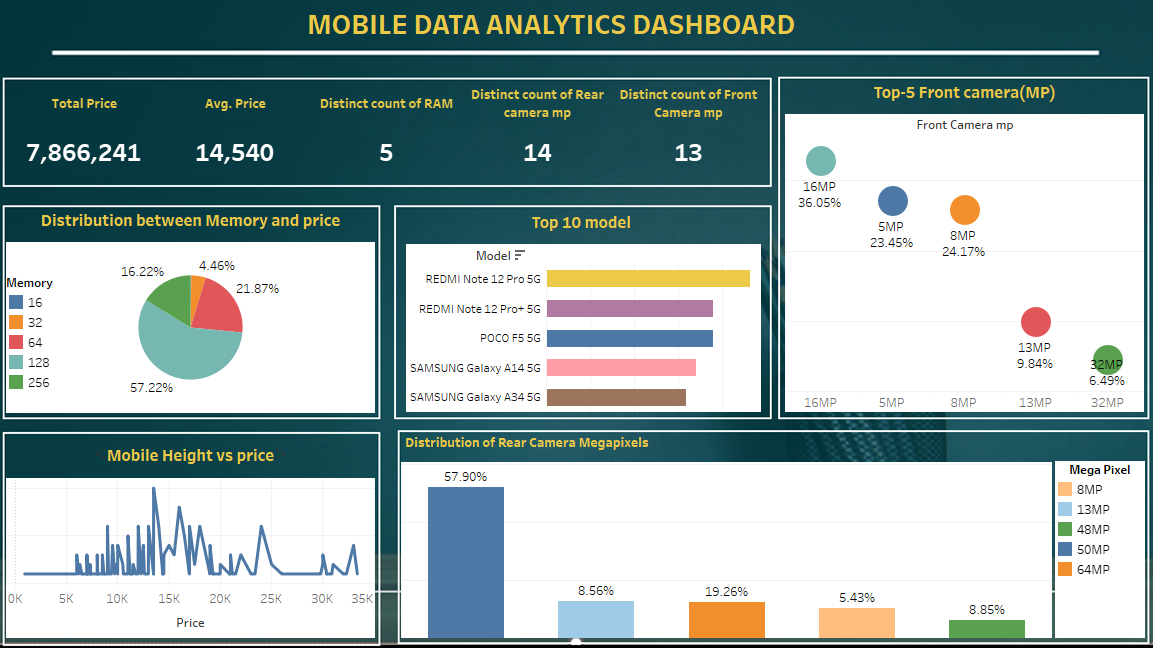

This screenshot's page, from the dashboard's own definition file:
{"tool":"tableau","page":{"name":"Mobile Data analysis","canvas":[1200,700],"ordinal":0},"visuals":[{"type":"image","param":"C:/Users/Lenovo/Desktop/Photo Album.png","box":[8,8,1184,684]},{"type":"worksheet","title":"Sheet 7","mark":"Automatic","box":[327,25,498,40]},{"type":"worksheet","title":"Top-5-Front Camera(Mp)","mark":"Circle","rows":["F1"],"cols":["Front_Camera_mp"],"box":[809,101,359,335]},{"type":"worksheet","title":"kpi","mark":"Text","box":[33,107,755,97]},{"type":"worksheet","title":"Distribution between Memory and price","mark":"Pie","box":[30,229,369,208]},{"type":"worksheet","title":"Top 10 model ","mark":"Automatic","rows":["Model"],"cols":["Price"],"box":[430,231,379,205]},{"type":"legend","title":"Distribution between Memory and price","param":"[federated.0ajy9ip0cz97ou1ashps90bmuvsi].[none:Memory:nk]","box":[30,298,64,141]},{"type":"worksheet","title":"Distribution of Rear Camera Megapixels","mark":"Automatic","rows":["F1"],"cols":["Rear_camera_mp"],"box":[425,453,651,209]},{"type":"worksheet","title":"Mobile height vs Price","mark":"Automatic","rows":["Mobile Height"],"cols":["Price"],"box":[30,459,369,203]},{"type":"legend","title":"Distribution of Rear Camera Megapixels","param":"[federated.0ajy9ip0cz97ou1ashps90bmuvsi].[none:Rear_camera_mp:nk]","box":[1079,485,90,177]}]}

Visuals, with their boxes in screenshot pixels (x1, y1, x2, y2):
image: [23,0,1144,641]
"Sheet 7" worksheet: [325,9,797,47]
"Top-5-Front Camera(Mp)" worksheet (Circle marks): [781,81,1121,398]
"kpi" worksheet (Text marks): [46,86,761,178]
"Distribution between Memory and price" worksheet (Pie marks): [43,202,393,399]
"Top 10 model " worksheet: [422,204,781,398]
"Distribution between Memory and price" legend: [43,267,104,401]
"Distribution of Rear Camera Megapixels" worksheet: [418,414,1034,612]
"Mobile height vs Price" worksheet: [43,420,393,612]
"Distribution of Rear Camera Megapixels" legend: [1037,444,1122,612]
